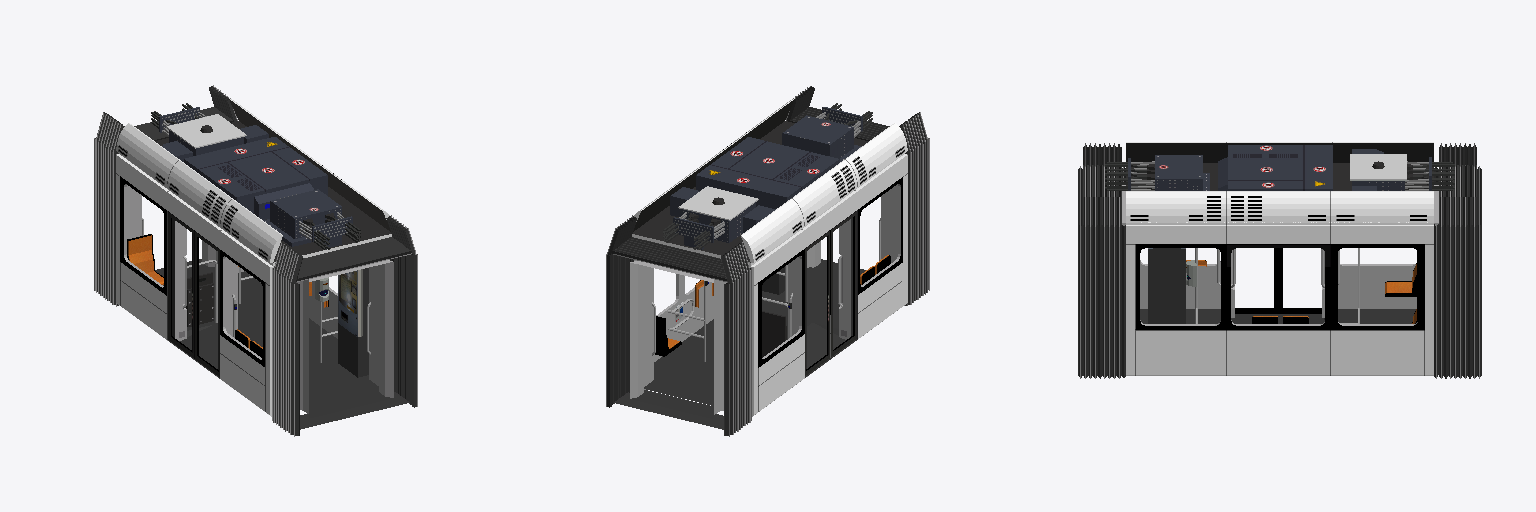
3 views of the same model, side by side, from view 1: azimuth 30°, elevation 25°; view 2: azimuth 150°, elevation 25°; view 3: azimuth 270°, elevation 25° (orthographic).
Visible parts, largest first — view 1: body, garm, int, d_rr, d_rl; view 2: body, garm, int, d_rl, d_rr; view 3: body, garm, int, d_rl.
Boxes of the visible parts, box(x1,y1,x2,y2) form: body: box(116, 98, 391, 416); garm: box(94, 85, 417, 436); int: box(124, 184, 378, 405); d_rr: box(168, 211, 194, 358); d_rl: box(195, 231, 219, 377); body: box(632, 98, 907, 416); garm: box(606, 86, 929, 436); int: box(644, 184, 900, 405); d_rl: box(830, 211, 856, 357); d_rr: box(805, 230, 829, 376); body: box(1105, 142, 1454, 375); garm: box(1078, 143, 1481, 378); int: box(1122, 185, 1438, 325); d_rl: box(1235, 248, 1278, 313).
Bounding box in the file's own units: 2.3 × 3.23 × 6.4.
11 materials, 4 textured.